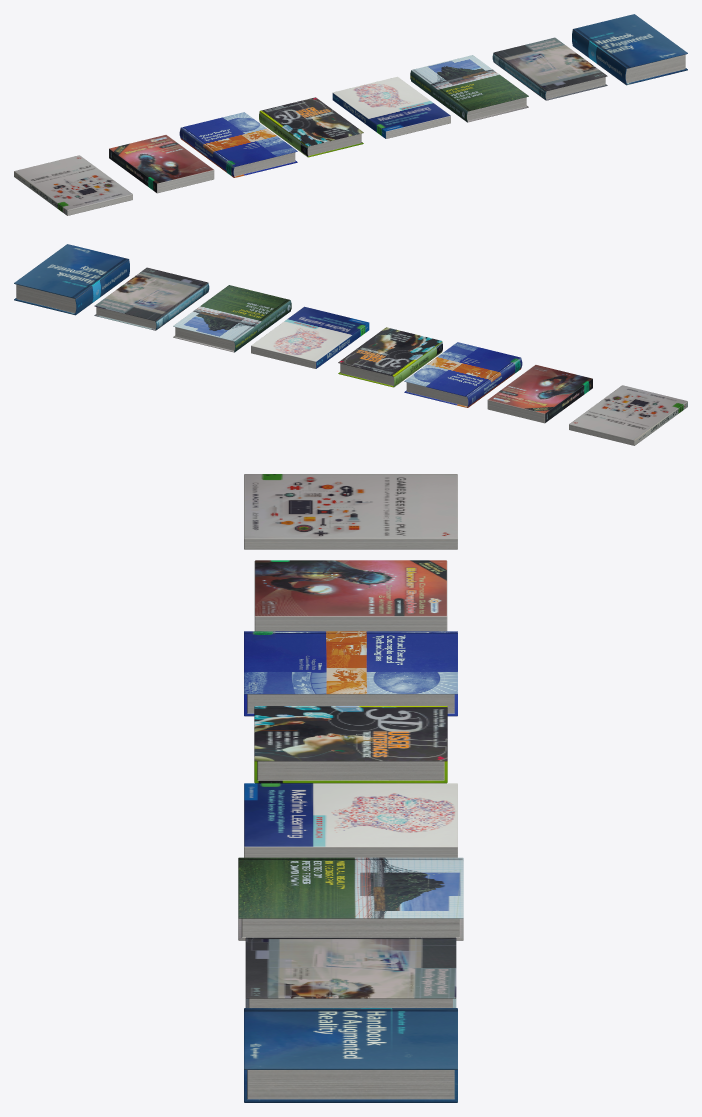
The model's file is books.glb.
3 renders of one model, top to bottom at view 1: azimuth 30°, elevation 25°; view 2: azimuth 150°, elevation 25°; view 3: azimuth 270°, elevation 25°, orthographic. The views are drawn at different scales.
Parts seen in each view (by area): view 1: Book_8, Book_6, Book_3, Book_5, Book_7, Book_1, Book_4, Book_2; view 2: Book_8, Book_6, Book_3, Book_5, Book_7, Book_1, Book_4, Book_2; view 3: Book_8, Book_6, Book_3, Book_1, Book_5, Book_4, Book_7, Book_2.
Part boxes in pixels (left/top/right/bottom): Book_8: left=572, top=14, right=687, bottom=85; Book_6: left=410, top=55, right=528, bottom=122; Book_3: left=179, top=112, right=297, bottom=177; Book_5: left=332, top=76, right=450, bottom=138; Book_7: left=492, top=37, right=607, bottom=100; Book_1: left=14, top=155, right=132, bottom=215; Book_4: left=259, top=97, right=363, bottom=157; Book_2: left=109, top=135, right=214, bottom=193; Book_8: left=14, top=244, right=129, bottom=315; Book_6: left=173, top=285, right=291, bottom=352; Book_3: left=404, top=342, right=522, bottom=407; Book_5: left=251, top=306, right=369, bottom=368; Book_7: left=94, top=267, right=209, bottom=330; Book_1: left=569, top=385, right=687, bottom=445; Book_4: left=338, top=327, right=442, bottom=387; Book_2: left=487, top=365, right=592, bottom=423; Book_8: left=244, top=1008, right=457, bottom=1102; Book_6: left=238, top=857, right=463, bottom=940; Book_3: left=244, top=631, right=457, bottom=716; Book_1: left=244, top=474, right=457, bottom=549; Book_5: left=244, top=783, right=457, bottom=857; Book_4: left=254, top=706, right=447, bottom=783; Book_7: left=245, top=937, right=456, bottom=1007; Book_2: left=254, top=560, right=447, bottom=631.
Size of the model in its own units: 1.63 by 0.0438 by 0.2565.
2 materials, 2 textured.
